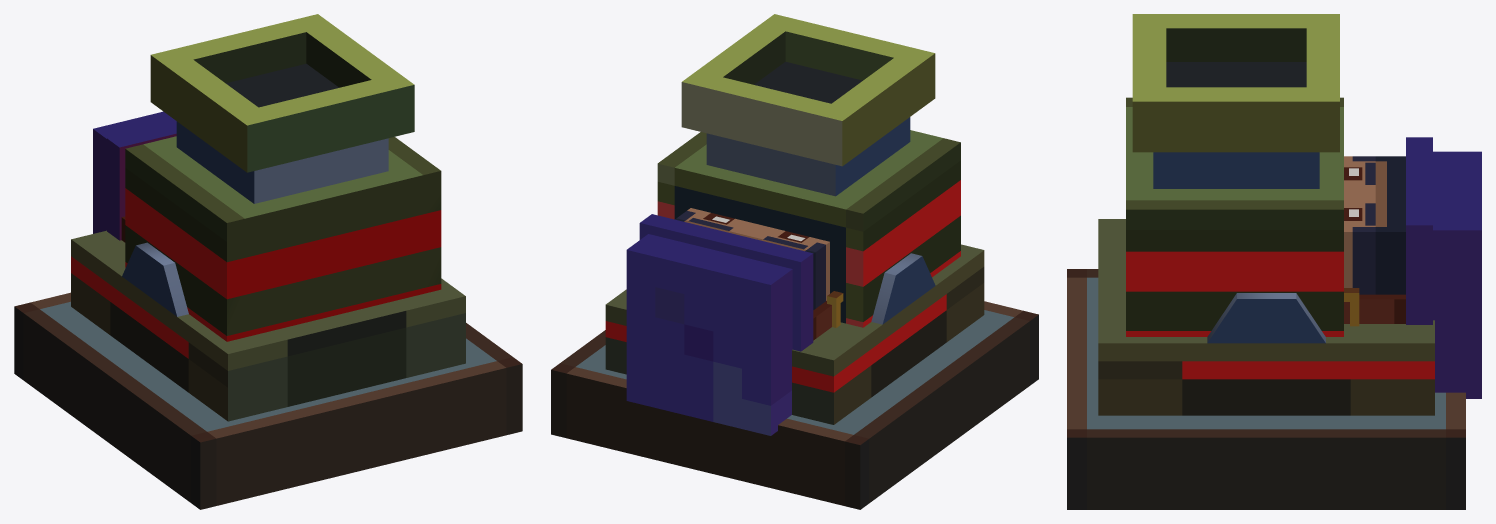
Rendered from Tower_Soldier_LVL6.fbx.
3 views of the same model, side by side, from view 1: azimuth 30°, elevation 25°; view 2: azimuth 150°, elevation 25°; view 3: azimuth 270°, elevation 25° (orthographic). The views are drawn at different scales.
Visible parts, largest first — view 1: Base, Seat, Barrel, Tank, Hat; view 2: Base, Hat, Barrel, Seat, Tank, Body, Buckle_Right; view 3: Base, Tank, Barrel, Seat, Hat, Body, Buckle_Left.
Part boxes in pixels (left/top/right/bottom): Base: left=14, top=292, right=522, bottom=509; Seat: left=125, top=136, right=441, bottom=341; Barrel: left=150, top=14, right=414, bottom=203; Tank: left=71, top=230, right=465, bottom=421; Hat: left=93, top=111, right=176, bottom=240; Base: left=551, top=301, right=1038, bottom=509; Hat: left=626, top=214, right=813, bottom=435; Barrel: left=681, top=14, right=935, bottom=196; Seat: left=657, top=130, right=960, bottom=327; Tank: left=605, top=244, right=984, bottom=424; Body: left=675, top=208, right=829, bottom=309; Buckle_Right: left=813, top=291, right=843, bottom=340; Base: left=1067, top=269, right=1465, bottom=509; Tank: left=1098, top=219, right=1434, bottom=415; Barrel: left=1132, top=14, right=1339, bottom=188; Seat: left=1126, top=97, right=1343, bottom=336; Hat: left=1406, top=137, right=1481, bottom=398; Body: left=1344, top=156, right=1405, bottom=294; Buckle_Left: left=1344, top=288, right=1405, bottom=326.
Size of the model in its own units: 100 by 102 by 104.
